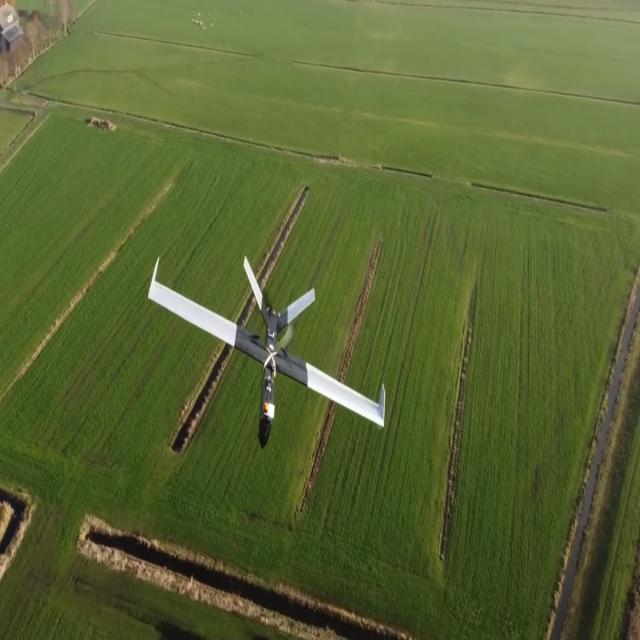iha: (141, 251, 384, 447)
